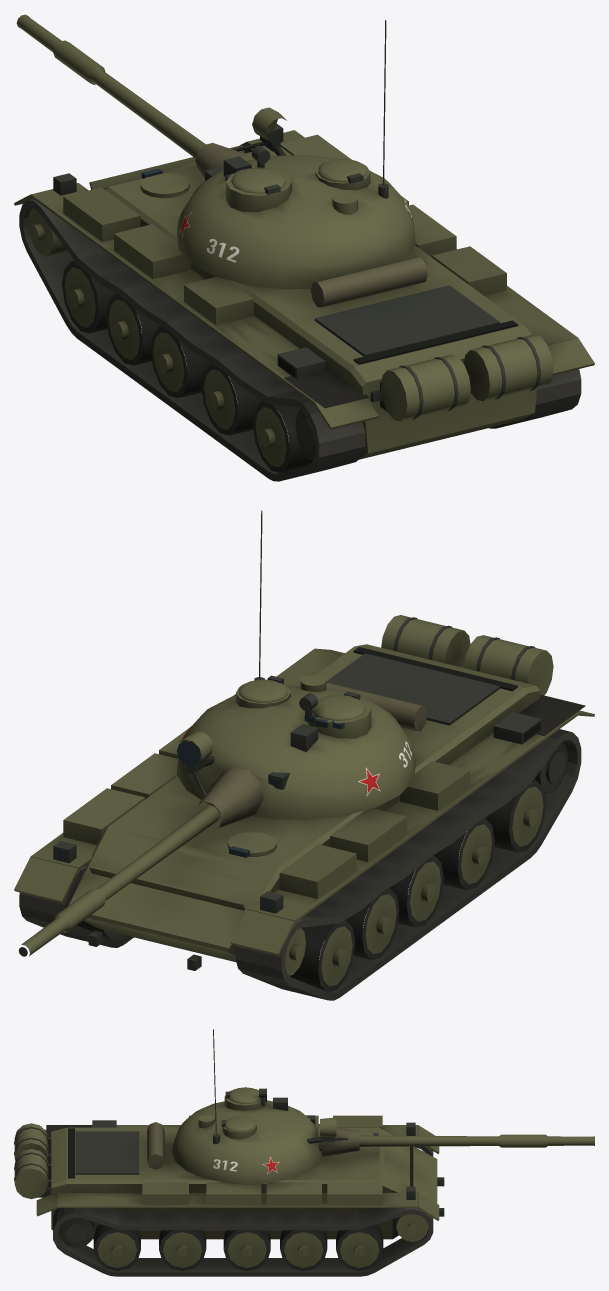
The model's file is t62alt_lod1.glb.
3 renders of one model, top to bottom at view 1: azimuth 30°, elevation 25°; view 2: azimuth 150°, elevation 25°; view 3: azimuth 270°, elevation 25°, orthographic. The views are drawn at different scales.
Visible parts, largest first — view 1: Hull_T62A_Paint, TurretYaw_T62A_Paint, LeftTrack_T62A_TrackSteel, Hull_T62A_DarkSteel, LeftTrack_Motion_T62A_Paint, LeftTrack_Motion_T62A_Rubber, BarrelRecoil_T62A_Paint, Hull_T62A_Canvas, RightTrack_T62A_TrackSteel, Hull_T62A_Soot, TurretYaw_T62A_DarkSteel, Hull_T62A_Cavity (+3 smaller); view 2: Hull_T62A_Paint, TurretYaw_T62A_Paint, LeftTrack_T62A_TrackSteel, Hull_T62A_DarkSteel, LeftTrack_Motion_T62A_Paint, LeftTrack_Motion_T62A_Rubber, BarrelRecoil_T62A_Paint, GunPitch_T62A_Canvas, RightTrack_T62A_TrackSteel, TurretYaw_T62A_DarkSteel, Hull_T62A_Canvas, Hull_T62A_Soot (+2 smaller); view 3: Hull_T62A_Paint, RightTrack_T62A_TrackSteel, TurretYaw_T62A_Paint, RightTrack_Motion_T62A_Paint, Hull_T62A_DarkSteel, RightTrack_Motion_T62A_Rubber, BarrelRecoil_T62A_Paint, RightTrack_Motion_T62A_DarkSteel, GunPitch_T62A_Canvas, Hull_T62A_Canvas, TurretYaw_T62A_DarkSteel, Hull_T62A_Cavity.
Boxes of the visible parts, box(x1,y1,x2,y2) form: Hull_T62A_Paint: box(14, 130, 594, 459); TurretYaw_T62A_Paint: box(176, 155, 415, 289); LeftTrack_T62A_TrackSteel: box(19, 199, 365, 481); Hull_T62A_DarkSteel: box(53, 124, 541, 419); LeftTrack_Motion_T62A_Paint: box(28, 208, 286, 467); LeftTrack_Motion_T62A_Rubber: box(62, 260, 312, 472); BarrelRecoil_T62A_Paint: box(16, 14, 205, 158); Hull_T62A_Canvas: box(310, 257, 427, 307); RightTrack_T62A_TrackSteel: box(244, 148, 581, 428); Hull_T62A_Soot: box(284, 367, 369, 408); TurretYaw_T62A_DarkSteel: box(205, 20, 388, 198); Hull_T62A_Cavity: box(278, 320, 517, 377); Hull_T62A_Paint: box(14, 615, 594, 961); TurretYaw_T62A_Paint: box(176, 675, 415, 819); LeftTrack_T62A_TrackSteel: box(235, 729, 581, 1000); Hull_T62A_DarkSteel: box(53, 617, 541, 970); LeftTrack_Motion_T62A_Paint: box(285, 786, 543, 986); LeftTrack_Motion_T62A_Rubber: box(290, 780, 545, 991); BarrelRecoil_T62A_Paint: box(21, 805, 219, 956); GunPitch_T62A_Canvas: box(198, 767, 263, 830); RightTrack_T62A_TrackSteel: box(19, 864, 133, 947); TurretYaw_T62A_DarkSteel: box(211, 510, 360, 789); Hull_T62A_Canvas: box(326, 682, 427, 731); Hull_T62A_Soot: box(519, 695, 585, 735); Hull_T62A_Paint: box(14, 1115, 439, 1239); RightTrack_T62A_TrackSteel: box(53, 1208, 433, 1276); TurretYaw_T62A_Paint: box(172, 1087, 322, 1184); RightTrack_Motion_T62A_Paint: box(97, 1214, 428, 1267); Hull_T62A_DarkSteel: box(14, 1120, 444, 1216); RightTrack_Motion_T62A_Rubber: box(93, 1224, 383, 1271); BarrelRecoil_T62A_Paint: box(359, 1134, 594, 1147); RightTrack_Motion_T62A_DarkSteel: box(59, 1217, 94, 1248); GunPitch_T62A_Canvas: box(318, 1124, 359, 1156); Hull_T62A_Canvas: box(147, 1122, 164, 1169); TurretYaw_T62A_DarkSteel: box(213, 1029, 321, 1150); Hull_T62A_Cavity: box(68, 1128, 74, 1178).
Bounding box in the file's own units: 3.38 × 4.28 × 9.98.
Materials: 9 (1 with a texture image).
